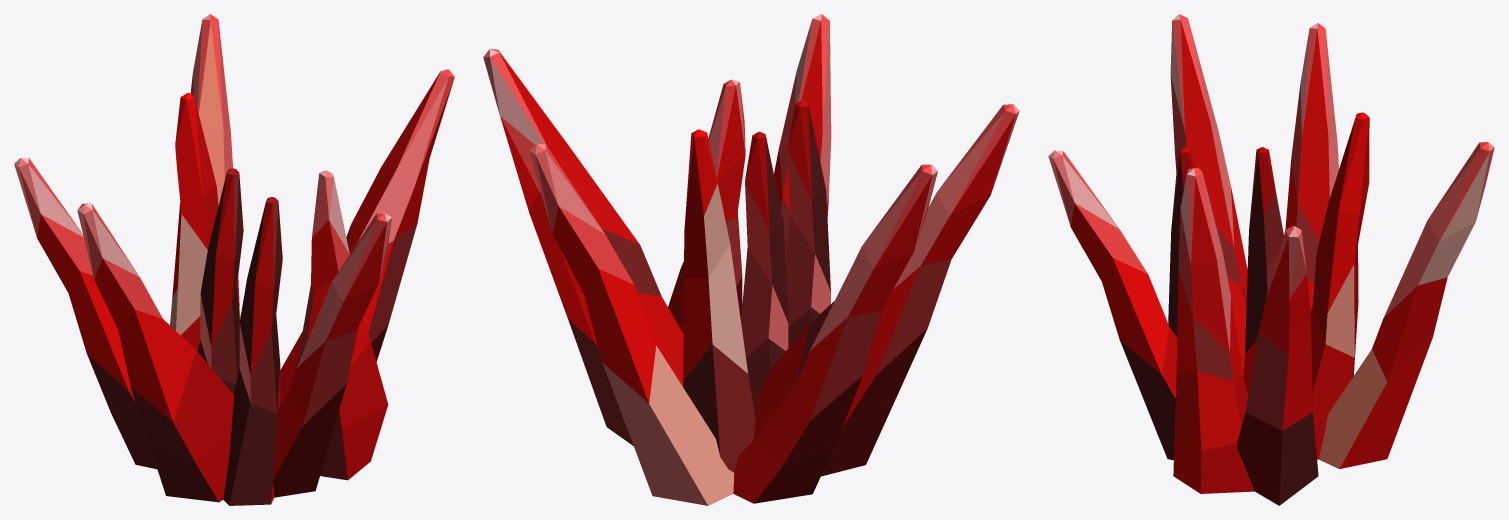
File: dr_obstacle.fbx
The picture shows the model from 3 angles, left to right: view 1: azimuth 30°, elevation 25°; view 2: azimuth 150°, elevation 25°; view 3: azimuth 270°, elevation 25°; orthographic projection. The views are drawn at different scales.
Parts seen in each view (by area): view 1: dr_obstacle; view 2: dr_obstacle; view 3: dr_obstacle.
Boxes of the visible parts, x1,y1,x2,y2 form: dr_obstacle: [14, 14, 454, 505]; dr_obstacle: [483, 14, 1019, 505]; dr_obstacle: [1048, 14, 1494, 505].
Size of the model in its own units: 1.53 by 1.17 by 1.38.
